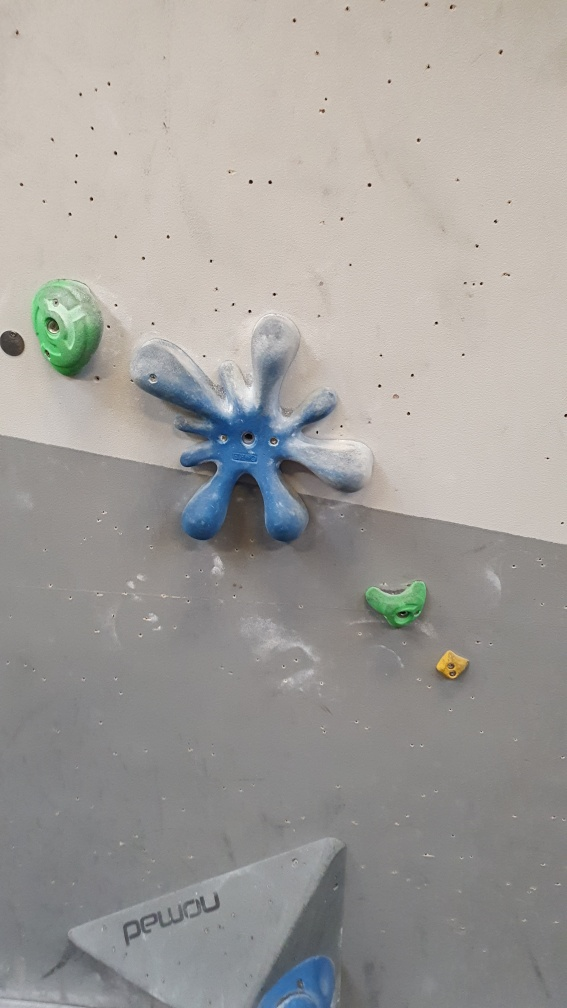Hand Start: (1, 327, 30, 357)
Jug: (359, 571, 424, 635)
Octopus Pinch: (130, 305, 378, 548)
